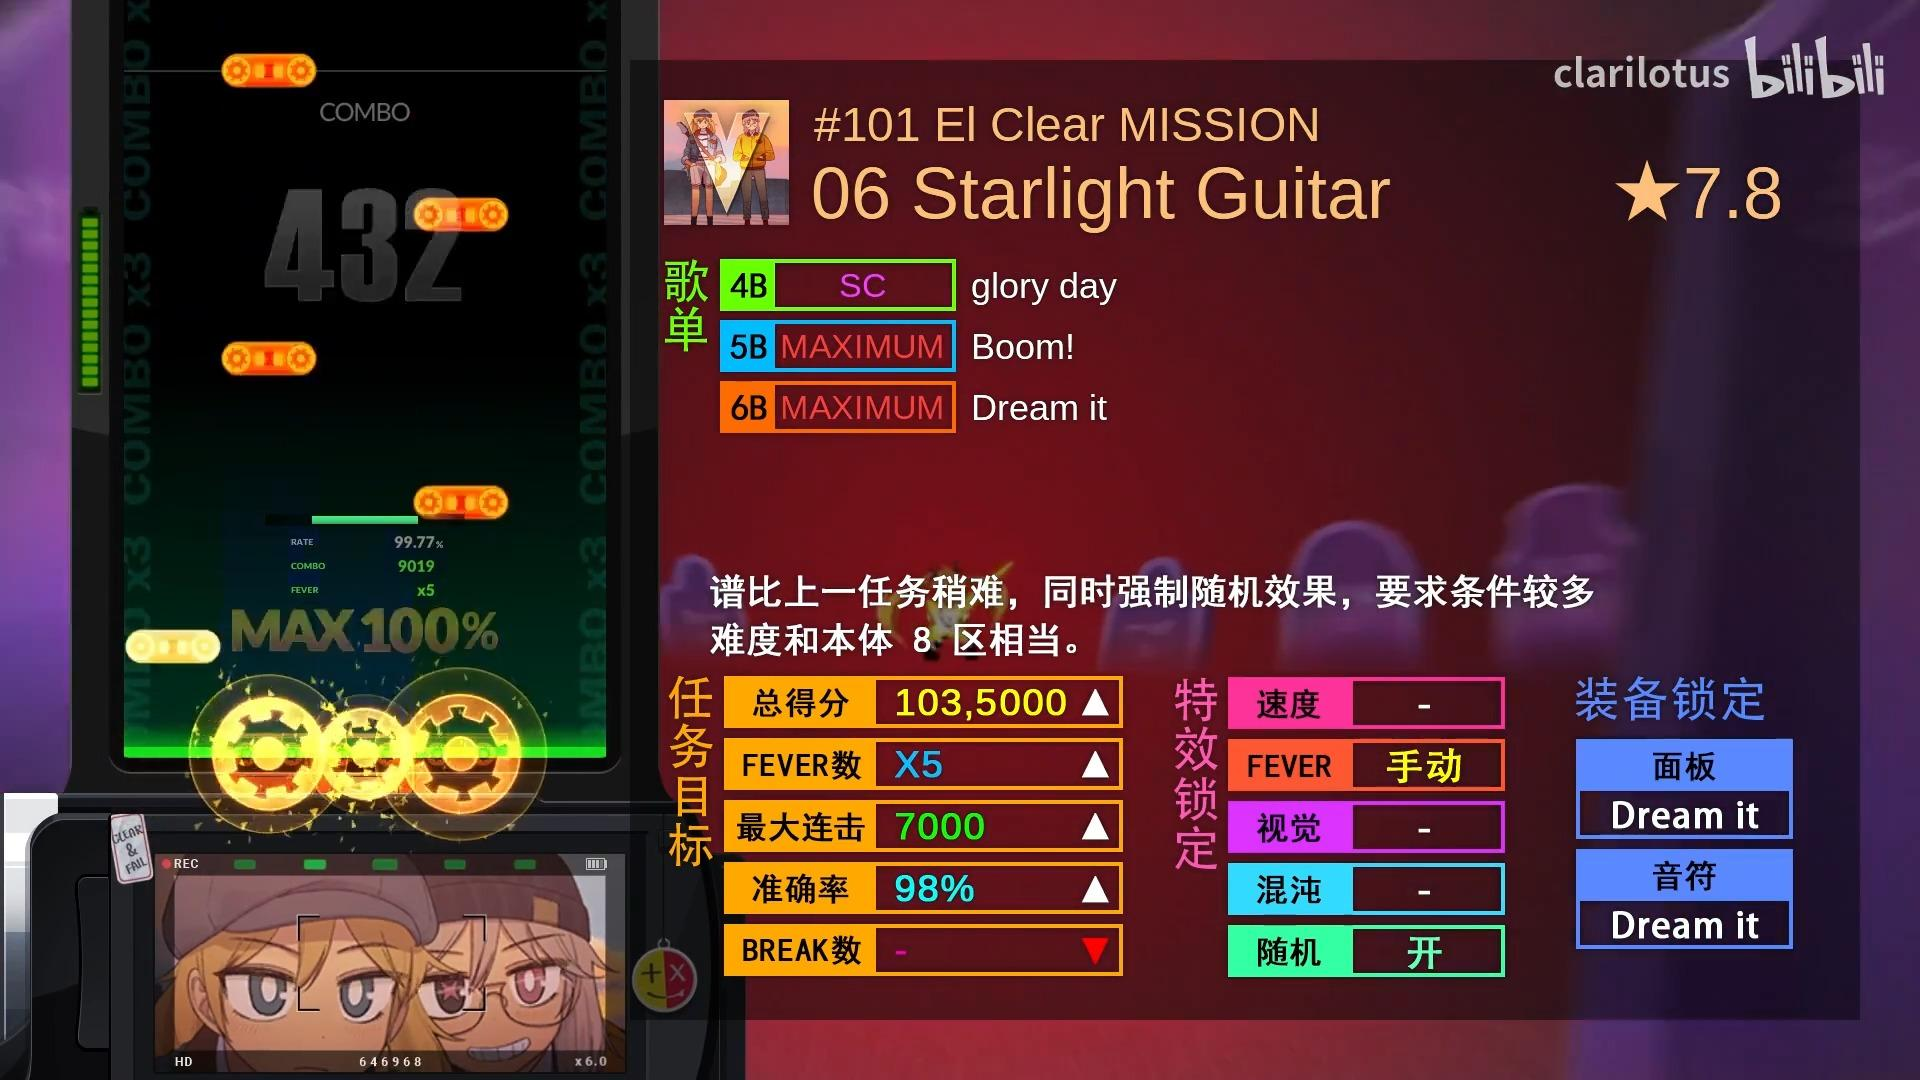note: (223, 339, 315, 377), (124, 629, 222, 665), (414, 484, 508, 521), (413, 198, 509, 233), (222, 53, 316, 87)
